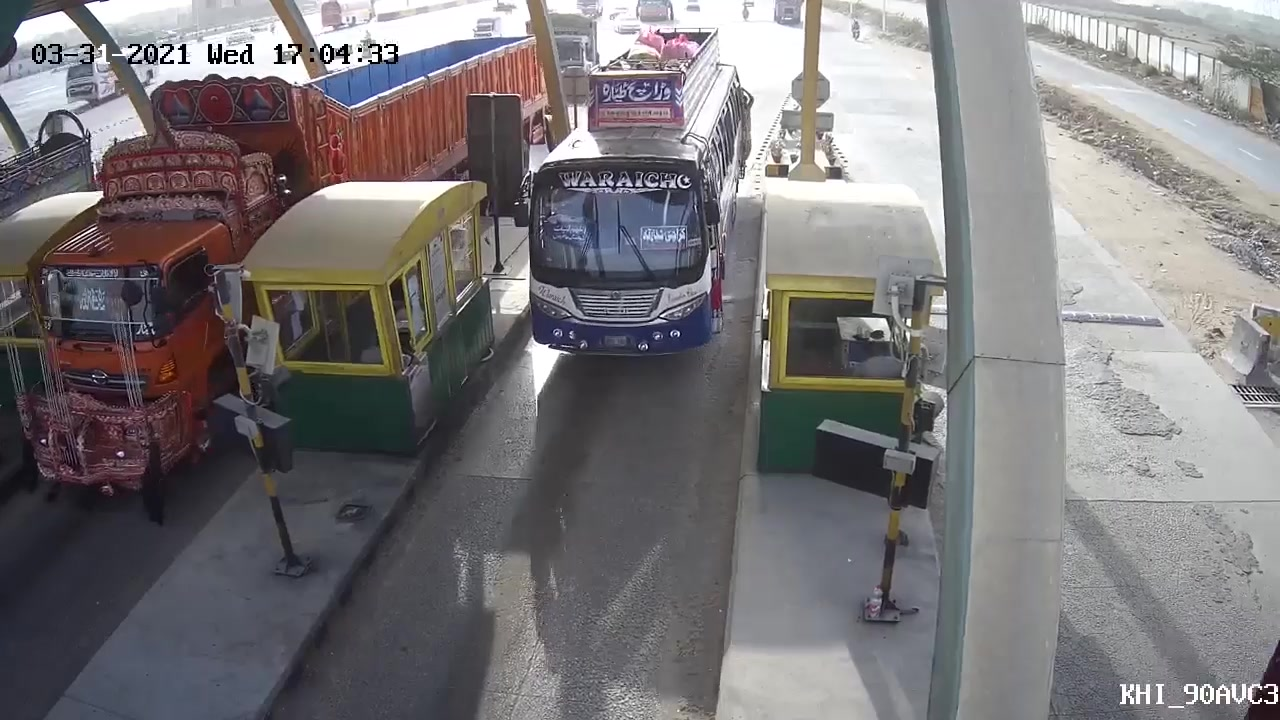F4: (521, 27, 755, 368)
